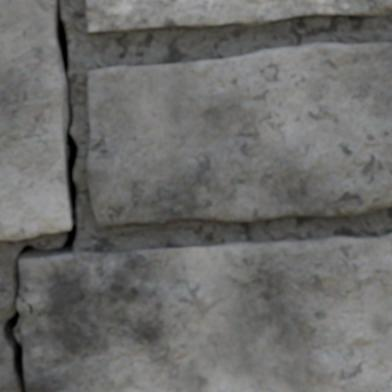brick: (20, 234, 391, 391), (87, 44, 391, 225), (0, 0, 69, 240), (87, 0, 391, 33), (17, 299, 20, 307)
crack: (0, 0, 78, 391)
